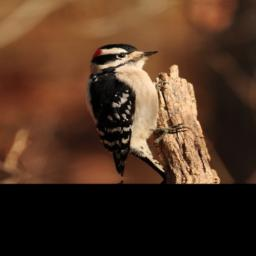Woodpecker: (81, 39, 195, 178)
